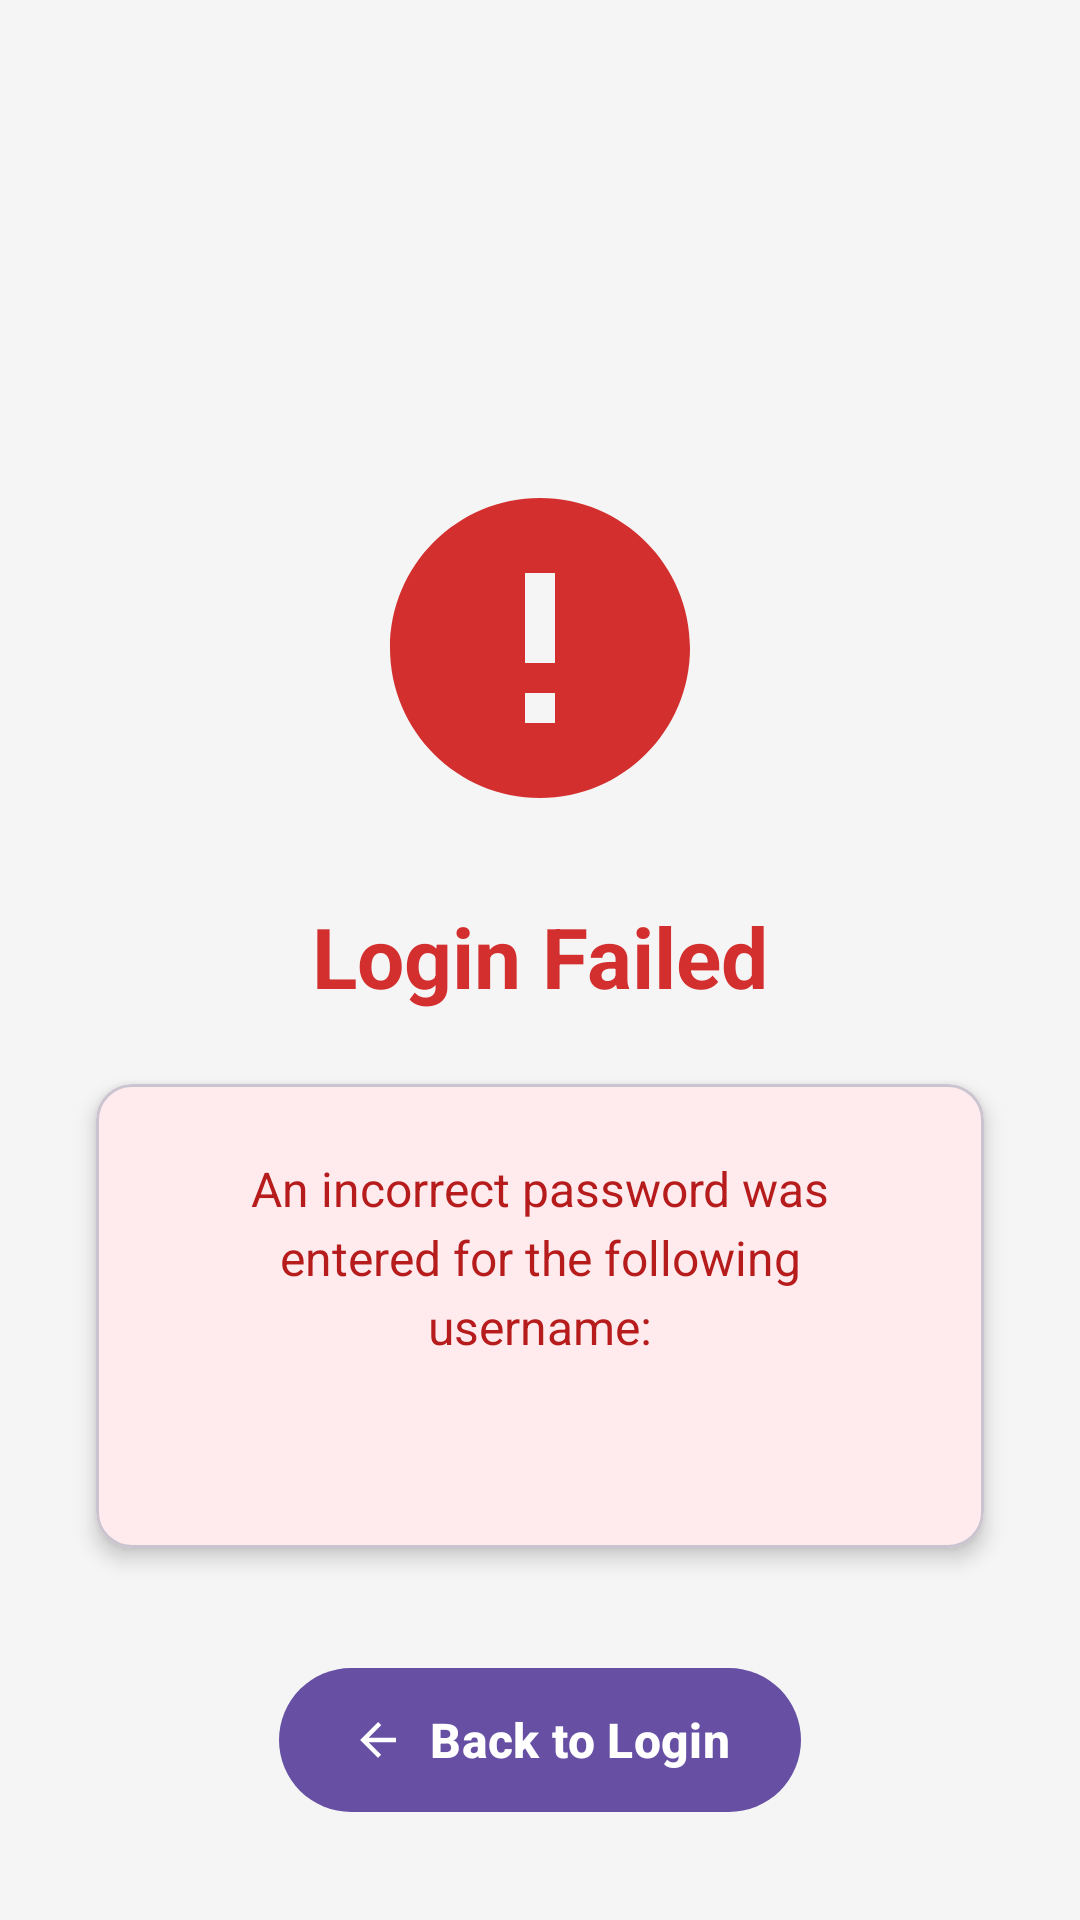

Icons on this 1080 × 1920 Android screen, each with its box as (x1, y1, x2, y2):
Error Icon: (390, 498, 690, 798)
